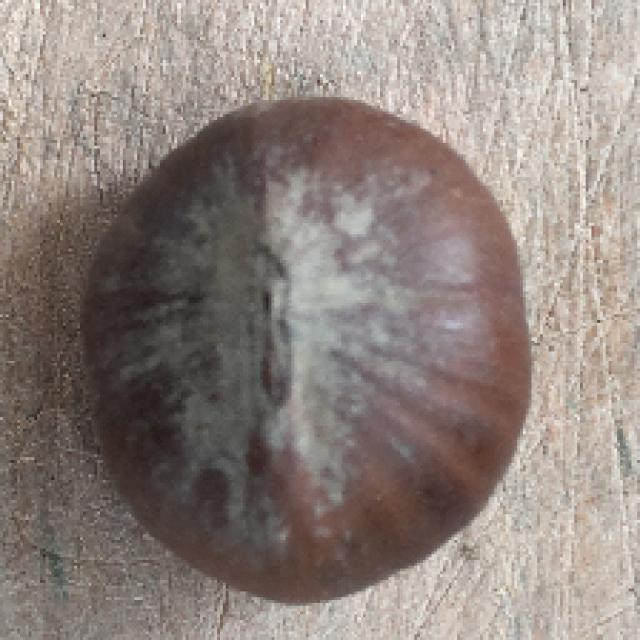DamagedHazelnut: (83, 99, 530, 601)
